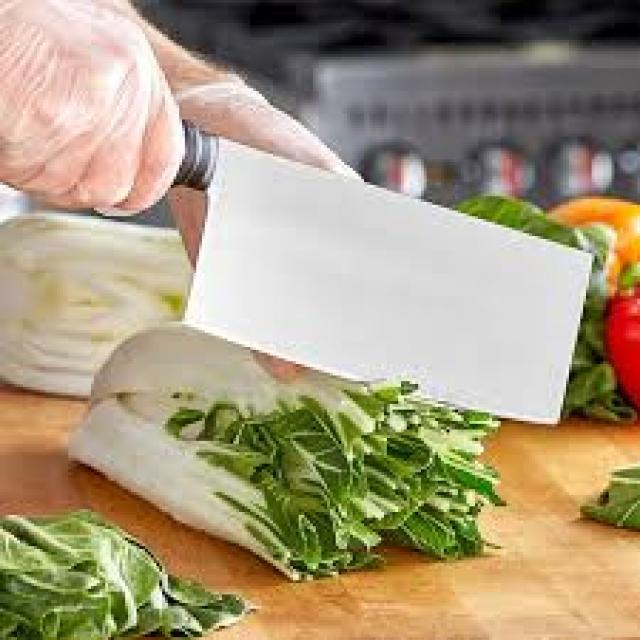cleaver: (0, 0, 597, 412)
